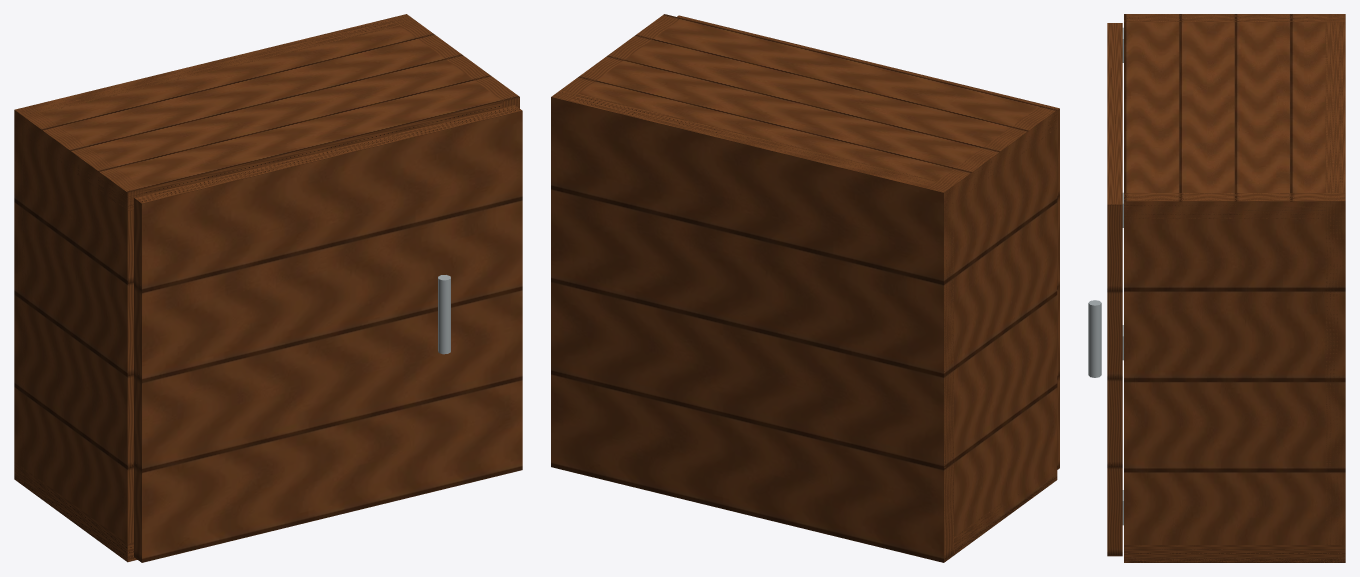
The model's file is suburban-outbreak-interiors-balcony-storage-carcass-3ed2ebb3__19980.glb.
The picture shows the model from 3 angles, left to right: view 1: azimuth 30°, elevation 25°; view 2: azimuth 150°, elevation 25°; view 3: azimuth 270°, elevation 25°; orthographic projection. The views are drawn at different scales.
Visible parts, largest first — view 1: cabinet-door-0/wood, balcony-storage-carcass; view 2: balcony-storage-carcass, cabinet-door-0/wood; view 3: balcony-storage-carcass, cabinet-door-0/wood.
Part boxes in pixels (x1,y1,x2,y2): cabinet-door-0/wood: [134, 105, 522, 562]; balcony-storage-carcass: [14, 14, 519, 562]; balcony-storage-carcass: [551, 14, 1057, 562]; cabinet-door-0/wood: [677, 15, 1059, 469]; balcony-storage-carcass: [1088, 14, 1345, 562]; cabinet-door-0/wood: [1107, 23, 1122, 556].
Bounding box in the file's own units: 1 × 0.9 × 0.58.
2 materials, 1 textured.
